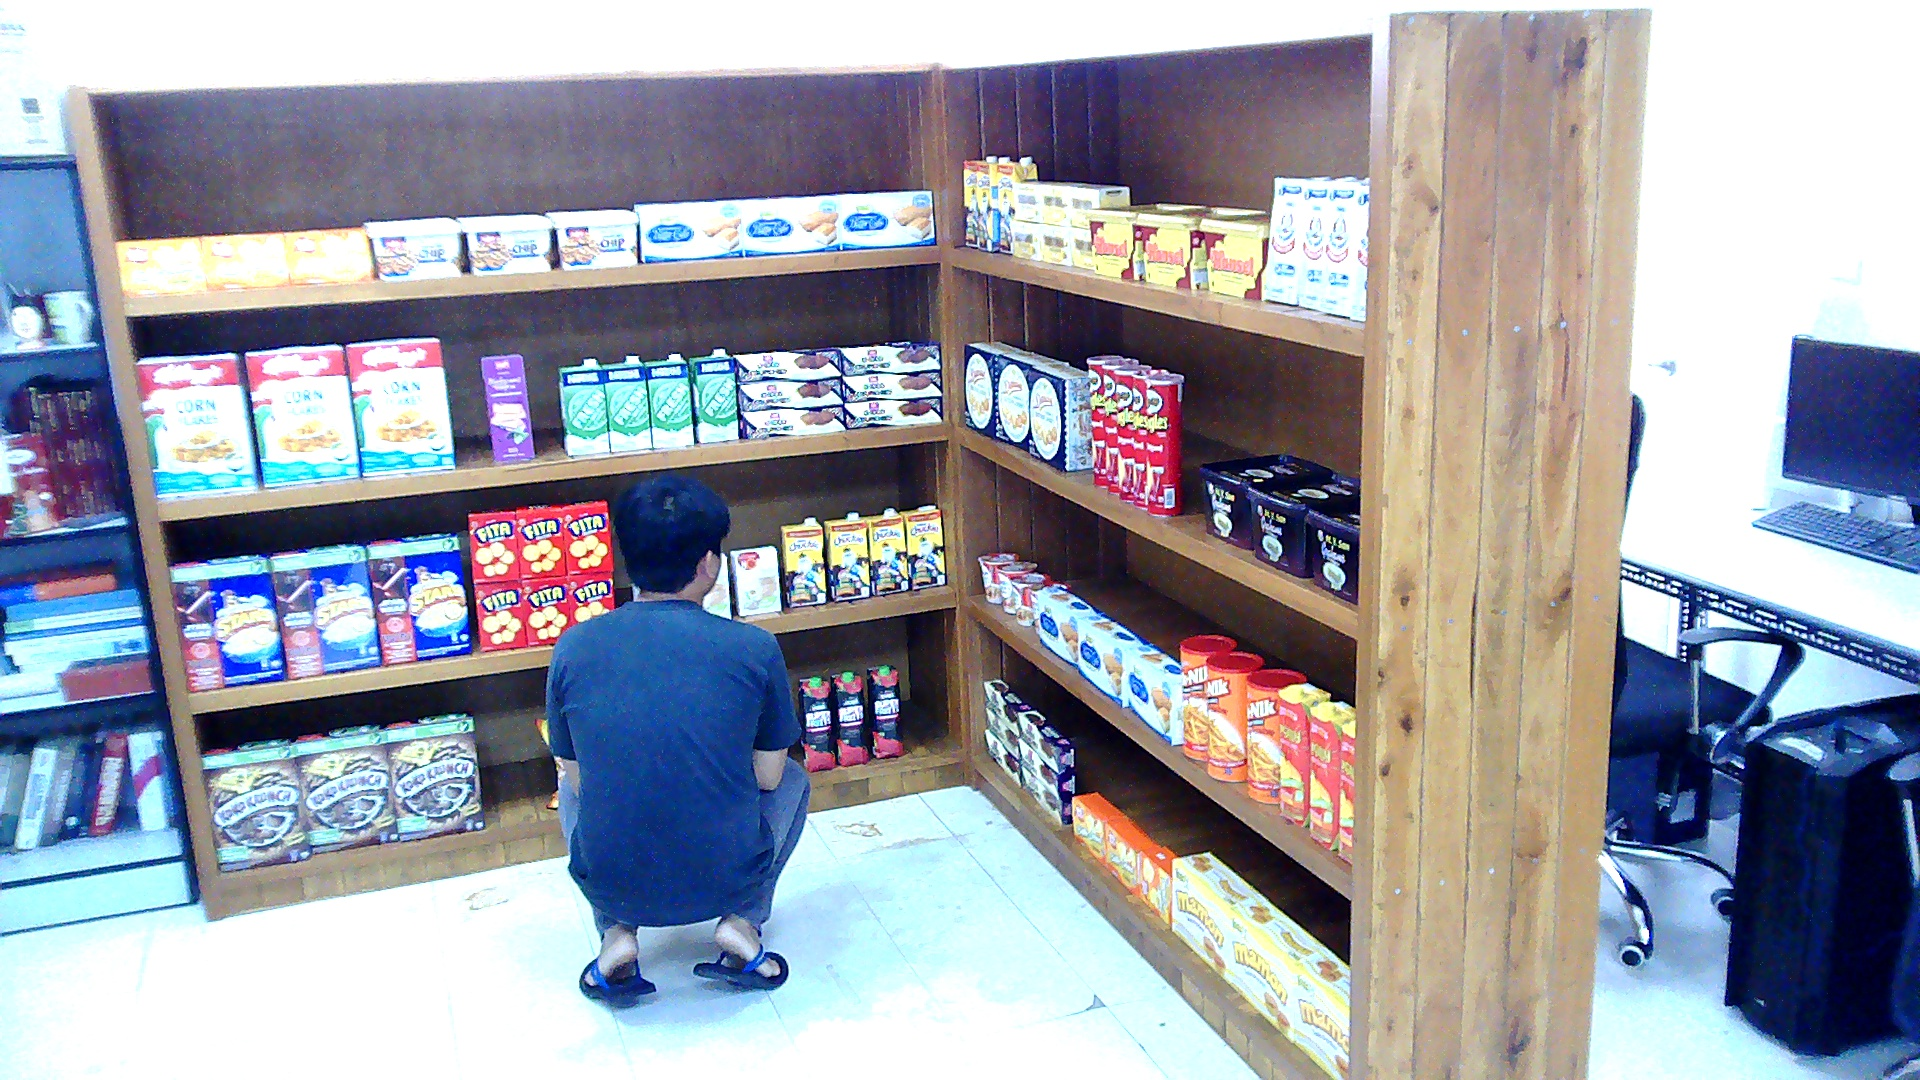Bear brand: (1265, 176, 1304, 304), (1322, 182, 1355, 315), (1299, 180, 1329, 310), (1350, 184, 1368, 319)
Buttercake: (1077, 612, 1152, 706), (633, 200, 741, 261), (737, 195, 836, 254), (1128, 643, 1182, 744), (1037, 585, 1100, 668), (840, 191, 933, 247)
Butterlicious: (114, 233, 207, 296), (282, 227, 372, 283), (201, 232, 288, 288), (1104, 819, 1158, 893), (1071, 792, 1125, 864), (1139, 846, 1178, 922)
Camomille: (1067, 182, 1130, 227), (1041, 179, 1089, 224), (1014, 180, 1062, 220), (1008, 221, 1041, 259), (1041, 225, 1071, 263), (1067, 230, 1094, 268)
Choco Crunchies: (732, 346, 840, 382), (1016, 710, 1073, 773), (837, 340, 939, 374), (734, 378, 839, 410), (738, 405, 843, 437), (843, 396, 942, 428), (1020, 737, 1074, 798), (1019, 760, 1070, 823), (843, 369, 939, 401), (983, 677, 1034, 733), (984, 729, 1020, 785), (984, 706, 1017, 758)
Chocolate Chips: (363, 218, 465, 281), (456, 213, 552, 274), (543, 206, 639, 267)
Chuckie: (822, 513, 870, 601), (897, 504, 945, 590), (996, 155, 1038, 252), (780, 517, 825, 607), (864, 506, 909, 594), (978, 155, 1011, 252), (962, 155, 995, 245)
Danisa: (993, 350, 1065, 449), (1029, 362, 1092, 470), (963, 339, 1026, 436)
Fita: (467, 507, 518, 583), (513, 502, 564, 578), (561, 500, 612, 574), (473, 580, 524, 650), (519, 576, 567, 644), (563, 571, 614, 620)
Fresh Milk: (557, 357, 608, 454), (599, 356, 650, 450), (641, 353, 692, 445), (687, 349, 738, 441)
Grahams: (1197, 452, 1335, 549), (1245, 472, 1359, 575), (1305, 499, 1359, 602)
Hansel: (1134, 207, 1266, 288), (1083, 203, 1206, 279), (1200, 213, 1269, 299)
Head: (609, 468, 735, 605)
Honey Stars: (168, 551, 285, 693), (269, 540, 380, 677), (366, 528, 471, 663)
Kellogg Corn Flakes: (135, 351, 255, 497), (242, 342, 359, 486), (345, 337, 453, 474)
Kimchi Noodles: (1029, 581, 1071, 635), (978, 551, 1020, 603), (1011, 572, 1050, 626), (995, 560, 1034, 612)
Koko Krunch: (201, 735, 309, 870), (291, 719, 399, 852), (383, 708, 482, 841)
Locally Mango: (1277, 684, 1328, 826), (1308, 702, 1353, 848), (1337, 720, 1352, 864)
Mamon: (1227, 900, 1323, 1042), (1170, 851, 1266, 981), (1292, 944, 1349, 1077)
Pik-nik: (1245, 668, 1305, 803), (1206, 651, 1263, 781), (1178, 634, 1235, 758)
Pringles: (1131, 369, 1170, 509), (1101, 357, 1140, 492), (1146, 373, 1182, 515), (1116, 362, 1149, 502), (1086, 356, 1119, 486)
Super Fruits: (797, 674, 836, 771), (867, 661, 903, 758), (831, 668, 867, 765)
Wafer: (480, 353, 534, 461)
iHop: (729, 544, 780, 614), (705, 553, 729, 616)
